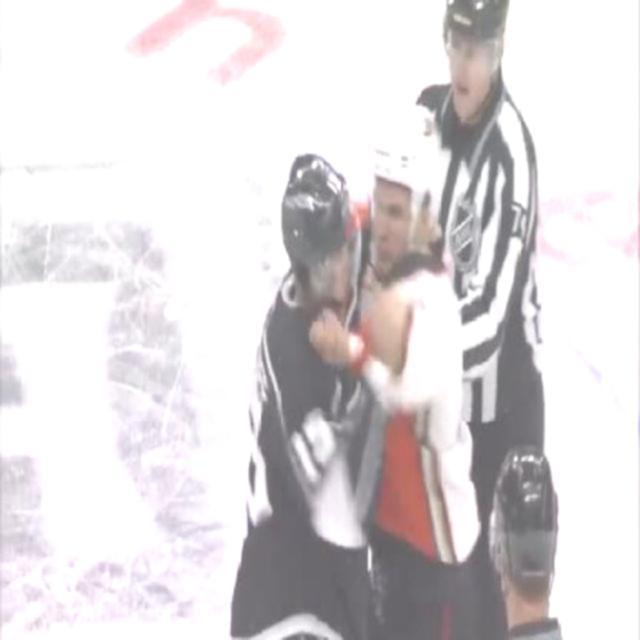fight: (260, 104, 478, 578)
